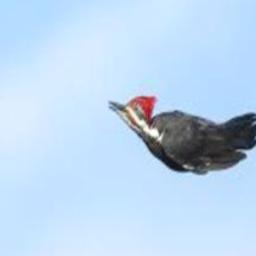Woodpecker: (109, 95, 256, 172)
